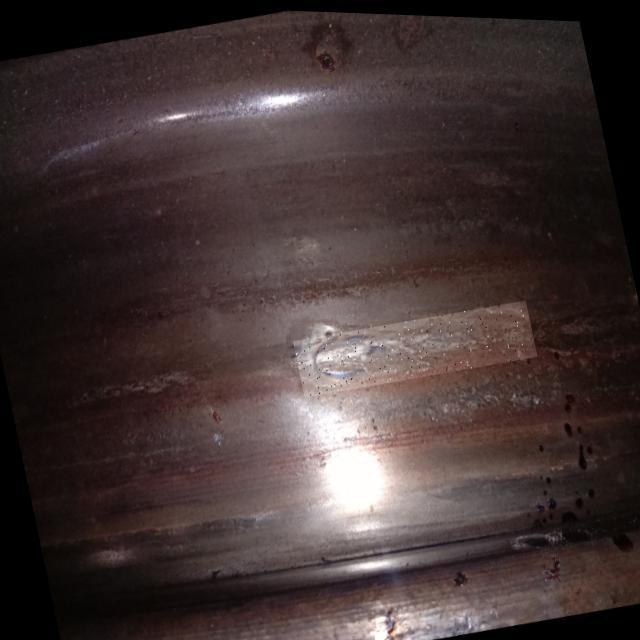Blue hole: (448, 564, 472, 594)
Contact_Fatigue_Cracks: (326, 328, 530, 364)
Peeling: (529, 488, 592, 541)
